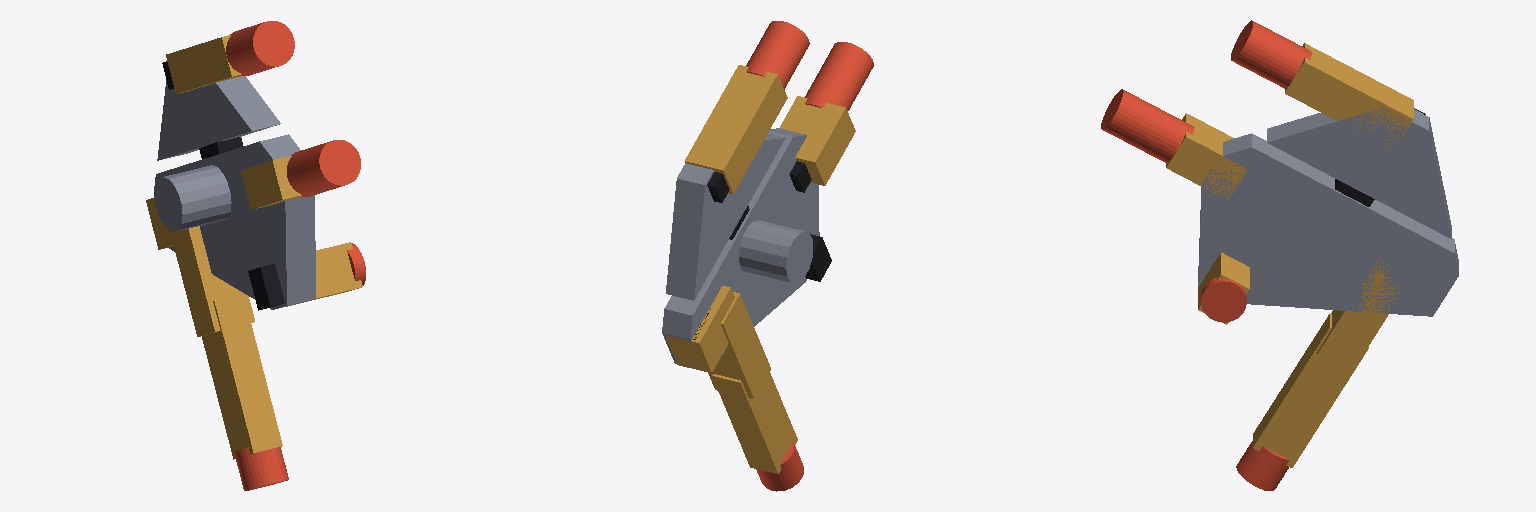
The robot description file, URDF, robot "g0073_c15":
<robot name="g0073_c15">
  <link name="palm">
    <visual name="palm_palm1">
      <origin xyz="0 0 0" rpy="0 0 0" />
      <geometry>
        <mesh filename="palm_palm1.obj" />
      </geometry>
      <material name="palm_palm1_mat">
        <color rgba="0.55 0.57 0.62 1" />
      </material>
    </visual>
    <collision>
      <origin xyz="0 0 0" rpy="0 0 0" />
      <geometry>
        <mesh filename="palm_palm1.obj" />
      </geometry>
    </collision>
    <visual name="palm_mount2">
      <origin xyz="0 0 0" rpy="0 0 0" />
      <geometry>
        <mesh filename="palm_mount2.obj" />
      </geometry>
      <material name="palm_mount2_mat">
        <color rgba="0.55 0.57 0.62 1" />
      </material>
    </visual>
    <collision>
      <origin xyz="0 0 0" rpy="0 0 0" />
      <geometry>
        <mesh filename="palm_mount2.obj" />
      </geometry>
    </collision>
    <visual name="palm_hinge3">
      <origin xyz="0 0.01125 0.0194855716" rpy="-1.57079633 0.523598776 1.57079633" />
      <geometry>
        <box size="0.029 0.034 0.02" />
      </geometry>
      <material name="palm_hinge3_mat">
        <color rgba="0.15 0.15 0.17 1" />
      </material>
    </visual>
    <collision>
      <origin xyz="0 0.01125 0.0194855716" rpy="-1.57079633 0.523598776 1.57079633" />
      <geometry>
        <box size="0.029 0.034 0.02" />
      </geometry>
    </collision>
    <visual name="palm_motor4">
      <origin xyz="-0.007 -0.08 -0.04" rpy="1.06057524e-16 -1.04719755 1.57079633" />
      <geometry>
        <box size="0.029 0.034 0.02" />
      </geometry>
      <material name="palm_motor4_mat">
        <color rgba="0.15 0.15 0.17 1" />
      </material>
    </visual>
    <collision>
      <origin xyz="-0.007 -0.08 -0.04" rpy="1.06057524e-16 -1.04719755 1.57079633" />
      <geometry>
        <box size="0.029 0.034 0.02" />
      </geometry>
    </collision>
    <visual name="palm_motor5">
      <origin xyz="-0.0045 -0.0735048095 0.03625" rpy="-0.523598776 -5.30287619e-17 3.061617e-17" />
      <geometry>
        <box size="0.029 0.034 0.02" />
      </geometry>
      <material name="palm_motor5_mat">
        <color rgba="0.15 0.15 0.17 1" />
      </material>
    </visual>
    <collision>
      <origin xyz="-0.0045 -0.0735048095 0.03625" rpy="-0.523598776 -5.30287619e-17 3.061617e-17" />
      <geometry>
        <box size="0.029 0.034 0.02" />
      </geometry>
    </collision>
    <visual name="palm_motor6">
      <origin xyz="-0.0045 0.0666996732 -0.0467548095" rpy="1.57079633 -0.523598776 -1.57079633" />
      <geometry>
        <box size="0.029 0.034 0.02" />
      </geometry>
      <material name="palm_motor6_mat">
        <color rgba="0.15 0.15 0.17 1" />
      </material>
    </visual>
    <collision>
      <origin xyz="-0.0045 0.0666996732 -0.0467548095" rpy="1.57079633 -0.523598776 -1.57079633" />
      <geometry>
        <box size="0.029 0.034 0.02" />
      </geometry>
    </collision>
    <inertial>
      <origin xyz="1.50485994e-19 -0.0172636508 -0.0144599369" rpy="-1.57079633 -0.362146519 -1.57079633" />
      <mass value="0.718239156" />
      <inertia ixx="0.000602347485" ixy="0" ixz="0" iyy="0.001960332" iyz="0" izz="0.00249372852" />
    </inertial>
  </link>
  <link name="palm0">
    <visual name="palm0_palm1">
      <origin xyz="0 0 0" rpy="0 0 0" />
      <geometry>
        <mesh filename="palm0_palm1.obj" />
      </geometry>
      <material name="palm0_palm1_mat">
        <color rgba="0.55 0.57 0.62 1" />
      </material>
    </visual>
    <collision>
      <origin xyz="0 0 0" rpy="0 0 0" />
      <geometry>
        <mesh filename="palm0_palm1.obj" />
      </geometry>
    </collision>
    <visual name="palm0_motor2">
      <origin xyz="-0.0045 0.0314951905 0.0502692379" rpy="-0.523598776 -5.30287619e-17 3.061617e-17" />
      <geometry>
        <box size="0.029 0.034 0.02" />
      </geometry>
      <material name="palm0_motor2_mat">
        <color rgba="0.15 0.15 0.17 1" />
      </material>
    </visual>
    <collision>
      <origin xyz="-0.0045 0.0314951905 0.0502692379" rpy="-0.523598776 -5.30287619e-17 3.061617e-17" />
      <geometry>
        <box size="0.029 0.034 0.02" />
      </geometry>
    </collision>
    <inertial>
      <origin xyz="4.55583347e-19 0.0168201261 0.0261100971" rpy="1.57079633 0.51656267 1.57079633" />
      <mass value="0.271137299" />
      <inertia ixx="0.000102017503" ixy="0" ixz="0" iyy="0.000299802357" iyz="0" izz="0.00037579068" />
    </inertial>
  </link>
  <link name="f0_link0">
    <visual name="f0_link0_link1">
      <origin xyz="0.01875 0 -6.9388939e-18" rpy="4.06369831e-17 2.80588734e-33 -2.0827301e-33" />
      <geometry>
        <box size="0.0615 0.033 0.024" />
      </geometry>
      <material name="f0_link0_link1_mat">
        <color rgba="0.80 0.62 0.30 1" />
      </material>
    </visual>
    <collision>
      <origin xyz="0.01875 0 -6.9388939e-18" rpy="4.06369831e-17 2.80588734e-33 -2.0827301e-33" />
      <geometry>
        <box size="0.0615 0.033 0.024" />
      </geometry>
    </collision>
    <inertial>
      <origin xyz="0.01875 0 0" rpy="0 0 0" />
      <mass value="0.085239" />
      <inertia ixx="1.18269113e-05" ixy="0" ixz="0" iyy="3.09577393e-05" iyz="0" izz="3.46017066e-05" />
    </inertial>
  </link>
  <link name="f0_link1">
    <visual name="f0_link1_link1">
      <origin xyz="0.009 0 -6.9388939e-18" rpy="-1.57079633 -0 -1.57079633" />
      <geometry>
        <cylinder radius="0.0165" length="0.009" />
      </geometry>
      <material name="f0_link1_link1_mat">
        <color rgba="0.85 0.35 0.25 1" />
      </material>
    </visual>
    <collision>
      <origin xyz="0.009 0 -6.9388939e-18" rpy="-1.57079633 -0 -1.57079633" />
      <geometry>
        <cylinder radius="0.0165" length="0.009" />
      </geometry>
    </collision>
    <inertial>
      <origin xyz="0.009 0 0" rpy="0 0 0" />
      <mass value="0.046399949" />
      <inertia ixx="5.41970115e-06" ixy="0" ixz="0" iyy="7.09430898e-06" iyz="0" izz="7.09430898e-06" />
    </inertial>
  </link>
  <link name="f1_link0">
    <visual name="f1_link0_link1">
      <origin xyz="0.014 -0.004 -4.33680869e-18" rpy="0 7.03853194e-17 0" />
      <geometry>
        <box size="0.052 0.041 0.029" />
      </geometry>
      <material name="f1_link0_link1_mat">
        <color rgba="0.80 0.62 0.30 1" />
      </material>
    </visual>
    <collision>
      <origin xyz="0.014 -0.004 -4.33680869e-18" rpy="0 7.03853194e-17 0" />
      <geometry>
        <box size="0.052 0.041 0.029" />
      </geometry>
    </collision>
    <inertial>
      <origin xyz="0.014 -0.004 0" rpy="0 0 0" />
      <mass value="0.108199" />
      <inertia ixx="2.27398232e-05" ixy="0" ixz="0" iyy="3.19637879e-05" iyz="0" izz="3.95377179e-05" />
    </inertial>
  </link>
  <link name="f1_link1">
    <visual name="f1_link1_link1">
      <origin xyz="0.034 0 1.30104261e-18" rpy="-1.57079633 -0 -1.57079633" />
      <geometry>
        <cylinder radius="0.0165" length="0.059" />
      </geometry>
      <material name="f1_link1_link1_mat">
        <color rgba="0.85 0.35 0.25 1" />
      </material>
    </visual>
    <collision>
      <origin xyz="0.034 0 1.30104261e-18" rpy="-1.57079633 -0 -1.57079633" />
      <geometry>
        <cylinder radius="0.0165" length="0.059" />
      </geometry>
    </collision>
    <inertial>
      <origin xyz="0.034 0 0" rpy="0 0 0" />
      <mass value="0.121238577" />
      <inertia ixx="1.56071093e-05" ixy="0" ixz="0" iyy="7.58912764e-05" iyz="0" izz="7.58912764e-05" />
    </inertial>
  </link>
  <link name="f2_link0">
    <visual name="f2_link0_link1">
      <origin xyz="-0.00625 0 -0.0165" rpy="0 4.06369831e-17 0" />
      <geometry>
        <box size="0.0365 0.029 0.053" />
      </geometry>
      <material name="f2_link0_link1_mat">
        <color rgba="0.80 0.62 0.30 1" />
      </material>
    </visual>
    <collision>
      <origin xyz="-0.00625 0 -0.0165" rpy="0 4.06369831e-17 0" />
      <geometry>
        <box size="0.0365 0.029 0.053" />
      </geometry>
    </collision>
    <inertial>
      <origin xyz="-0.00625 0 -0.0165" rpy="0 0 0" />
      <mass value="0.098175875" />
      <inertia ixx="2.98618286e-05" ixy="0" ixz="0" iyy="3.38809035e-05" iyz="0" izz="1.778006e-05" />
    </inertial>
  </link>
  <link name="f2_link1">
    <visual name="f2_link1_link1">
      <origin xyz="0.03375 0 6.9388939e-18" rpy="0 4.06369831e-17 0" />
      <geometry>
        <box size="0.0915 0.033 0.029" />
      </geometry>
      <material name="f2_link1_link1_mat">
        <color rgba="0.80 0.62 0.30 1" />
      </material>
    </visual>
    <collision>
      <origin xyz="0.03375 0 6.9388939e-18" rpy="0 4.06369831e-17 0" />
      <geometry>
        <box size="0.0915 0.033 0.029" />
      </geometry>
    </collision>
    <inertial>
      <origin xyz="0.03375 0 0" rpy="0 0 0" />
      <mass value="0.153239625" />
      <inertia ixx="2.46460397e-05" ixy="0" ixz="0" iyy="0.000117652915" iyz="0" izz="0.000120819867" />
    </inertial>
  </link>
  <link name="f2_link2">
    <visual name="f2_link2_link1">
      <origin xyz="0.04375 0 -6.9388939e-18" rpy="0 4.06369831e-17 0" />
      <geometry>
        <box size="0.1115 0.024 0.033" />
      </geometry>
      <material name="f2_link2_link1_mat">
        <color rgba="0.80 0.62 0.30 1" />
      </material>
    </visual>
    <collision>
      <origin xyz="0.04375 0 -6.9388939e-18" rpy="0 4.06369831e-17 0" />
      <geometry>
        <box size="0.1115 0.024 0.033" />
      </geometry>
    </collision>
    <inertial>
      <origin xyz="0.04375 0 0" rpy="0 0 0" />
      <mass value="0.154539" />
      <inertia ixx="2.14422863e-05" ixy="0" ixz="0" iyy="0.000174130038" iyz="0" izz="0.000167523496" />
    </inertial>
  </link>
  <link name="f2_link3">
    <visual name="f2_link3_link1">
      <origin xyz="0.019 0 -1.73472348e-17" rpy="-1.57079633 -0 -1.57079633" />
      <geometry>
        <cylinder radius="0.0165" length="0.029" />
      </geometry>
      <material name="f2_link3_link1_mat">
        <color rgba="0.85 0.35 0.25 1" />
      </material>
    </visual>
    <collision>
      <origin xyz="0.019 0 -1.73472348e-17" rpy="-1.57079633 -0 -1.57079633" />
      <geometry>
        <cylinder radius="0.0165" length="0.029" />
      </geometry>
    </collision>
    <inertial>
      <origin xyz="0.019 0 0" rpy="0 0 0" />
      <mass value="0.0763354" />
      <inertia ixx="9.49466441e-06" ixy="0" ixz="0" iyy="2.24143997e-05" iyz="0" izz="2.24143997e-05" />
    </inertial>
  </link>
  <link name="f3_link0">
    <visual name="f3_link0_link1">
      <origin xyz="0.03375 0 0" rpy="0 7.03853194e-17 0" />
      <geometry>
        <box size="0.0915 0.033 0.029" />
      </geometry>
      <material name="f3_link0_link1_mat">
        <color rgba="0.80 0.62 0.30 1" />
      </material>
    </visual>
    <collision>
      <origin xyz="0.03375 0 0" rpy="0 7.03853194e-17 0" />
      <geometry>
        <box size="0.0915 0.033 0.029" />
      </geometry>
    </collision>
    <inertial>
      <origin xyz="0.03375 0 0" rpy="0 0 0" />
      <mass value="0.153239625" />
      <inertia ixx="2.46460397e-05" ixy="0" ixz="0" iyy="0.000117652915" iyz="0" izz="0.000120819867" />
    </inertial>
  </link>
  <link name="f3_link1">
    <visual name="f3_link1_link1">
      <origin xyz="0.029 0 -6.9388939e-18" rpy="-1.57079633 -0 -1.57079633" />
      <geometry>
        <cylinder radius="0.0165" length="0.049" />
      </geometry>
      <material name="f3_link1_link1_mat">
        <color rgba="0.85 0.35 0.25 1" />
      </material>
    </visual>
    <collision>
      <origin xyz="0.029 0 -6.9388939e-18" rpy="-1.57079633 -0 -1.57079633" />
      <geometry>
        <cylinder radius="0.0165" length="0.049" />
      </geometry>
    </collision>
    <inertial>
      <origin xyz="0.029 0 0" rpy="0 0 0" />
      <mass value="0.106270851" />
      <inertia ixx="1.35696277e-05" ixy="0" ixz="0" iyy="5.30015704e-05" iyz="0" izz="5.30015704e-05" />
    </inertial>
  </link>
  <joint name="palm0_joint" type="revolute">
    <parent link="palm" />
    <child link="palm0" />
    <origin xyz="0 0.015 0.0259807621" rpy="0 0 0" />
    <axis xyz="0 0.866025404 -0.5" />
    <limit effort="0.5" lower="-0.523598776" upper="0.523598776" velocity="5" />
    <dynamics damping="0.0775033" friction="0" />
  </joint>
  <joint name="f0_j0" type="revolute">
    <parent link="palm" />
    <child link="f0_link0" />
    <origin xyz="0.0005 -0.08 -0.04" rpy="1.04719755 5.30287619e-17 -3.061617e-17" />
    <axis xyz="0 1 6.123234e-17" />
    <limit effort="0.5" lower="-0.523598776" upper="0.523598776" velocity="5" />
    <dynamics damping="0.0775033" friction="0" />
  </joint>
  <joint name="f0_j1" type="revolute">
    <parent link="f0_link0" />
    <child link="f0_link1" />
    <origin xyz="0.04 0 0" rpy="0 0 0" />
    <axis xyz="0 1 6.123234e-17" />
    <limit effort="0.5" lower="-0.523598776" upper="0.523598776" velocity="5" />
    <dynamics damping="0.0775033" friction="0" />
  </joint>
  <joint name="f1_j0" type="revolute">
    <parent link="palm" />
    <child link="f1_link0" />
    <origin xyz="-0.0045 -0.08 0.04" rpy="-0 -0.523598776 -1.57079633" />
    <axis xyz="-0 -1 -6.123234e-17" />
    <limit effort="0.5" lower="-0.523598776" upper="0.523598776" velocity="5" />
    <dynamics damping="0.0775033" friction="0" />
  </joint>
  <joint name="f1_j1" type="revolute">
    <parent link="f1_link0" />
    <child link="f1_link1" />
    <origin xyz="0.03 0 0" rpy="0 0 0" />
    <axis xyz="0 0 1" />
    <limit effort="0.5" lower="-0.523598776" upper="1.57079633" velocity="5" />
    <dynamics damping="0.0775033" friction="0" />
  </joint>
  <joint name="f2_j0" type="revolute">
    <parent link="palm" />
    <child link="f2_link0" />
    <origin xyz="-0.0045 0.04 -0.04" rpy="0 1.04719755 -1.57079633" />
    <axis xyz="0 0 1" />
    <limit effort="0.5" lower="-0.523598776" upper="1.57079633" velocity="5" />
    <dynamics damping="0.0775033" friction="0" />
  </joint>
  <joint name="f2_j1" type="revolute">
    <parent link="f2_link0" />
    <child link="f2_link1" />
    <origin xyz="0 0 0" rpy="0 0 0" />
    <axis xyz="0 1 6.123234e-17" />
    <limit effort="0.5" lower="-0.523598776" upper="0.523598776" velocity="5" />
    <dynamics damping="0.0775033" friction="0" />
  </joint>
  <joint name="f2_j2" type="revolute">
    <parent link="f2_link1" />
    <child link="f2_link2" />
    <origin xyz="0.07 0 0" rpy="0 0 0" />
    <axis xyz="0 0 1" />
    <limit effort="0.5" lower="-0.523598776" upper="1.57079633" velocity="5" />
    <dynamics damping="0.0775033" friction="0" />
  </joint>
  <joint name="f2_j3" type="revolute">
    <parent link="f2_link2" />
    <child link="f2_link3" />
    <origin xyz="0.09 0 0" rpy="0 0 0" />
    <axis xyz="0 0 1" />
    <limit effort="0.5" lower="-0.523598776" upper="1.57079633" velocity="5" />
    <dynamics damping="0.0775033" friction="0" />
  </joint>
  <joint name="f3_j0" type="revolute">
    <parent link="palm0" />
    <child link="f3_link0" />
    <origin xyz="-0.0045 0.025 0.0540192379" rpy="-0 -0.523598776 -1.57079633" />
    <axis xyz="-0 -1 -6.123234e-17" />
    <limit effort="0.5" lower="-0.523598776" upper="0.523598776" velocity="5" />
    <dynamics damping="0.0775033" friction="0" />
  </joint>
  <joint name="f3_j1" type="revolute">
    <parent link="f3_link0" />
    <child link="f3_link1" />
    <origin xyz="0.07 0 0" rpy="0 0 0" />
    <axis xyz="0 0 1" />
    <limit effort="0.5" lower="-0.523598776" upper="1.57079633" velocity="5" />
    <dynamics damping="0.0775033" friction="0" />
  </joint>
</robot>

--- Render facts (derived) ---
3 views of the same robot in one strip: view 1: azimuth 30°, elevation 25°; view 2: azimuth 150°, elevation 25°; view 3: azimuth 270°, elevation 25° (orthographic).
Model g0073_c15 with 12 links and 11 joints (11 revolute), rooted at palm, posed all joints at 0.
Links seen in each view (by area): view 1: palm, f2_link2, palm0, f2_link1, f1_link1, f3_link1, f3_link0, f1_link0, f0_link0, f2_link3, f2_link0; view 2: palm, palm0, f3_link0, f2_link2, f1_link0, f2_link1, f1_link1, f2_link0, f3_link1, f2_link3; view 3: palm, palm0, f2_link2, f3_link0, f1_link1, f2_link1, f1_link0, f3_link1, f0_link1, f2_link3, f0_link0.
Link boxes in pixels (box(x1,y1,x2,y2)): palm: box(154, 134, 315, 310); f2_link2: box(202, 294, 282, 459); palm0: box(157, 61, 280, 160); f2_link1: box(170, 226, 254, 336); f1_link1: box(287, 140, 360, 196); f3_link1: box(226, 21, 294, 75); f3_link0: box(166, 35, 241, 93); f1_link0: box(241, 156, 301, 209); f0_link0: box(287, 242, 362, 306); f2_link3: box(234, 447, 288, 490); f2_link0: box(146, 197, 173, 249); palm: box(662, 128, 831, 370); palm0: box(666, 134, 785, 300); f3_link0: box(685, 65, 787, 193); f2_link2: box(712, 373, 797, 474); f1_link0: box(780, 96, 855, 185); f2_link1: box(708, 292, 770, 398); f1_link1: box(805, 42, 873, 110); f2_link0: box(665, 286, 734, 372); f3_link1: box(746, 21, 809, 89); f2_link3: box(756, 442, 803, 491); palm: box(1198, 133, 1458, 316); palm0: box(1267, 107, 1451, 238); f2_link2: box(1253, 314, 1368, 467); f3_link0: box(1285, 43, 1413, 148); f1_link1: box(1101, 89, 1193, 162); f2_link1: box(1317, 256, 1399, 371); f1_link0: box(1166, 113, 1246, 199); f3_link1: box(1231, 20, 1311, 88); f0_link1: box(1201, 277, 1246, 322); f2_link3: box(1236, 441, 1288, 490); f0_link0: box(1198, 252, 1249, 324).
Size in the robot's own frame: 0.106 by 0.2597 by 0.3719 metres.
Meshes: 3 distinct files referenced, 3 mesh visuals loaded (3 OBJ).
